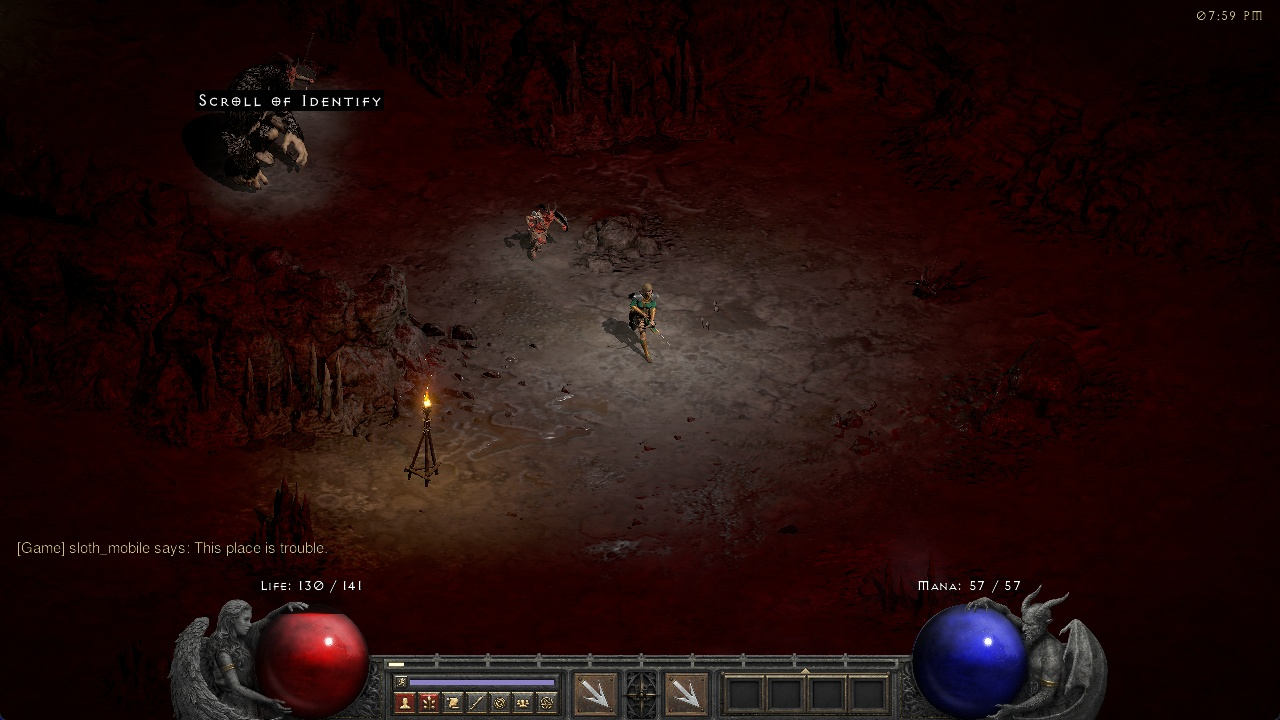fallen: (521, 198, 568, 263), (284, 57, 316, 89)
